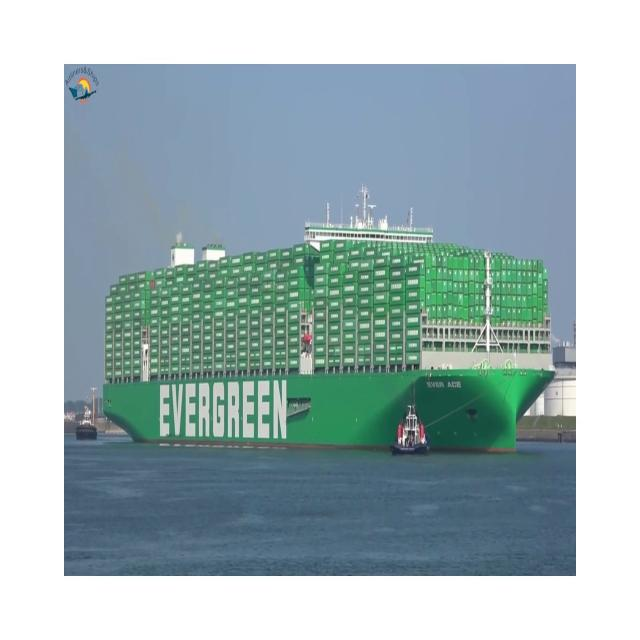OCR: (156, 365, 296, 452), (419, 369, 468, 394)
